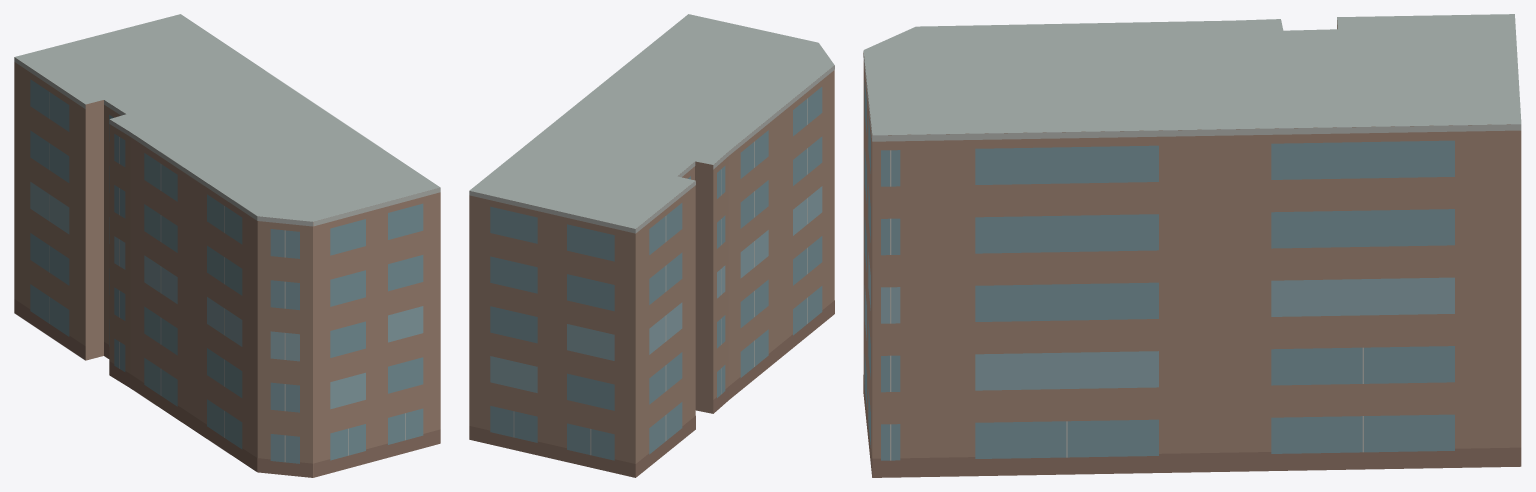
Rendered from survey-upis-32723249.glb.
3 renders of one model, left to right at view 1: azimuth 30°, elevation 25°; view 2: azimuth 150°, elevation 25°; view 3: azimuth 270°, elevation 25°, orthographic. The views are drawn at different scales.
Parts seen in each view (by area): view 1: survey-upis-32723249.tmp; view 2: survey-upis-32723249.tmp; view 3: survey-upis-32723249.tmp.
Boxes of the visible parts, x1,y1,x2,y2 form: survey-upis-32723249.tmp: (14, 14, 440, 477); survey-upis-32723249.tmp: (469, 14, 834, 477); survey-upis-32723249.tmp: (863, 14, 1521, 477).
Size of the model in its own units: 10.04 by 13.2 by 22.99.
